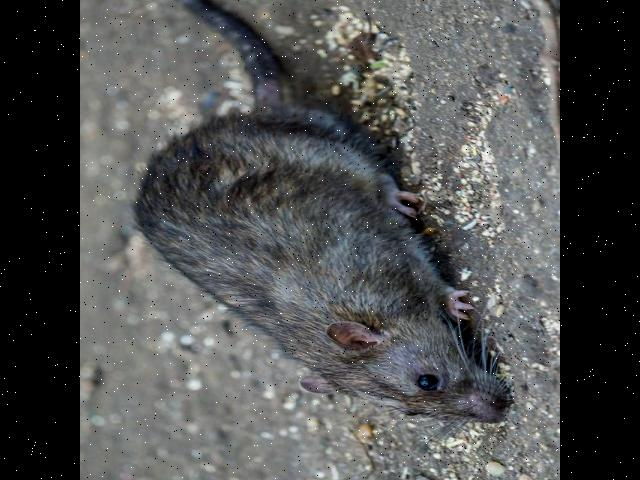Tikus: (120, 0, 513, 429)
